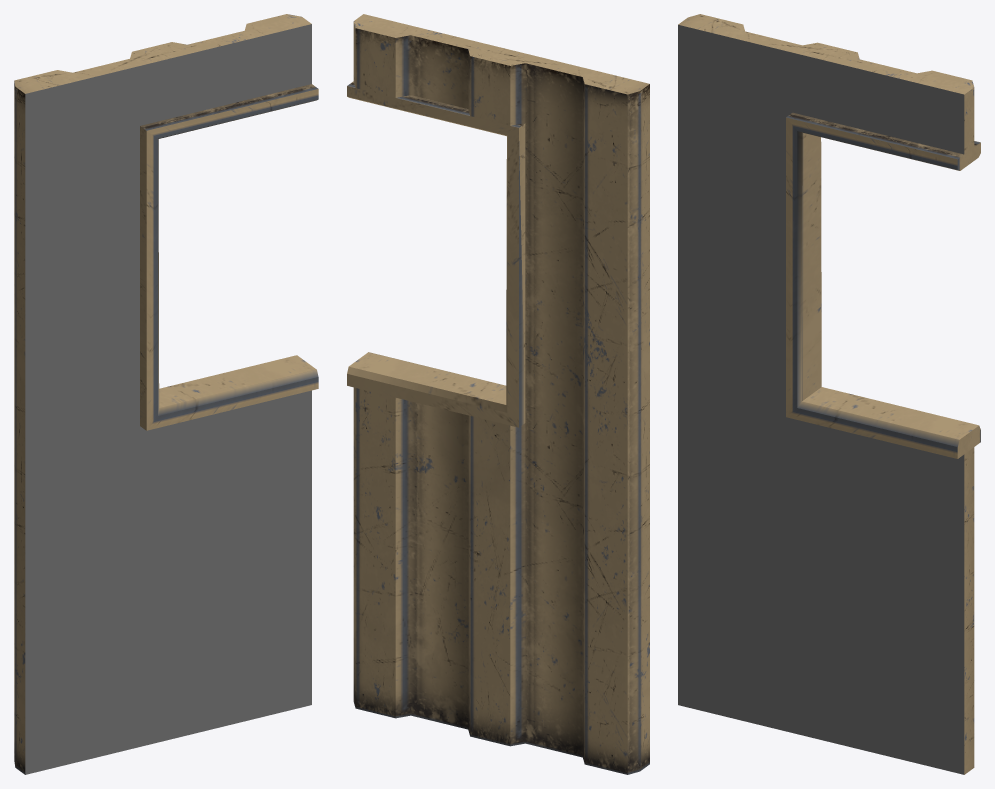
The model's file is CnWallWindowIntA1C.fbx.
3 views of the same model, side by side, from view 1: azimuth 30°, elevation 25°; view 2: azimuth 150°, elevation 25°; view 3: azimuth 330°, elevation 25° (orthographic).
Parts seen in each view (by area): view 1: CnWallWindowIntA1C; view 2: CnWallWindowIntA1C; view 3: CnWallWindowIntA1C.
Boxes of the visible parts, <box> form: CnWallWindowIntA1C: <box>14,14,318,774</box>; CnWallWindowIntA1C: <box>347,14,649,774</box>; CnWallWindowIntA1C: <box>678,14,980,774</box>.
Bounding box in the file's own units: 100 × 227 × 14.
